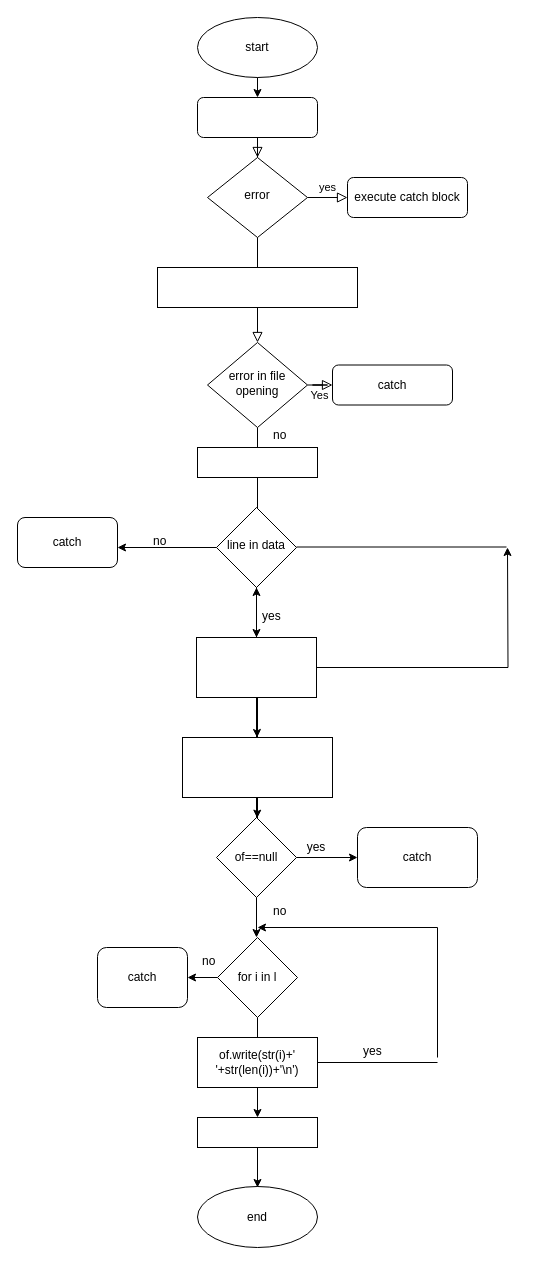
Some shapes in this 534 by 1265 pixel diagram are drawn without their labels. The centre of each missing label's shape, as x and y in pixels:
data=file.readlines(): the point at 257,462
execute try block: the point at 257,117
l=sorted(list(set(l)),key=len) of=open("task11.txt",'w+'): the point at 257,767
of.close(): the point at 257,1132
open("E:\day 1 task 1.txt","r") as file: the point at 257,287
word = line.split() l.extend(word): the point at 256,667
